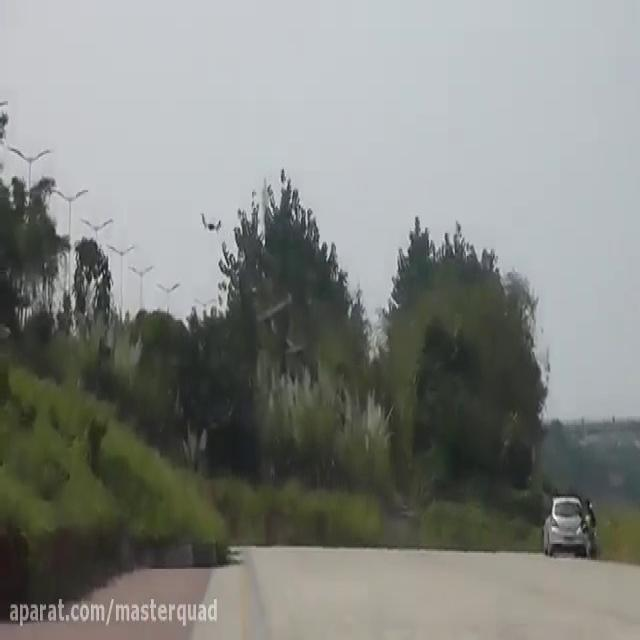drone: (198, 208, 224, 235)
